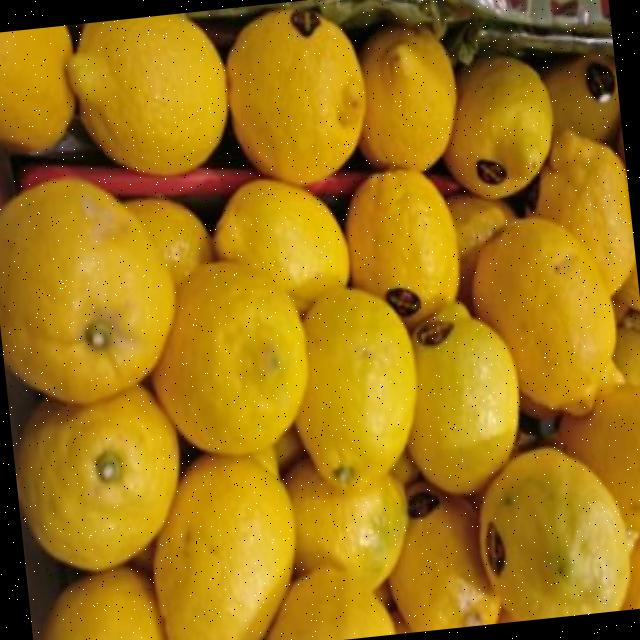lemon: (0, 179, 173, 403), (151, 262, 307, 455), (17, 386, 178, 570), (471, 217, 615, 414), (478, 448, 629, 621), (153, 454, 293, 640), (66, 13, 226, 175), (295, 289, 416, 488), (227, 10, 365, 184), (407, 303, 518, 495), (344, 169, 458, 326), (214, 180, 347, 311), (389, 481, 499, 632), (535, 130, 635, 293), (284, 460, 407, 589), (443, 56, 552, 198), (359, 26, 455, 170), (557, 384, 640, 531), (266, 567, 394, 640), (0, 25, 73, 151), (41, 567, 162, 640), (446, 193, 514, 307), (125, 199, 209, 284), (543, 56, 620, 141), (613, 328, 640, 385), (623, 536, 640, 610)
